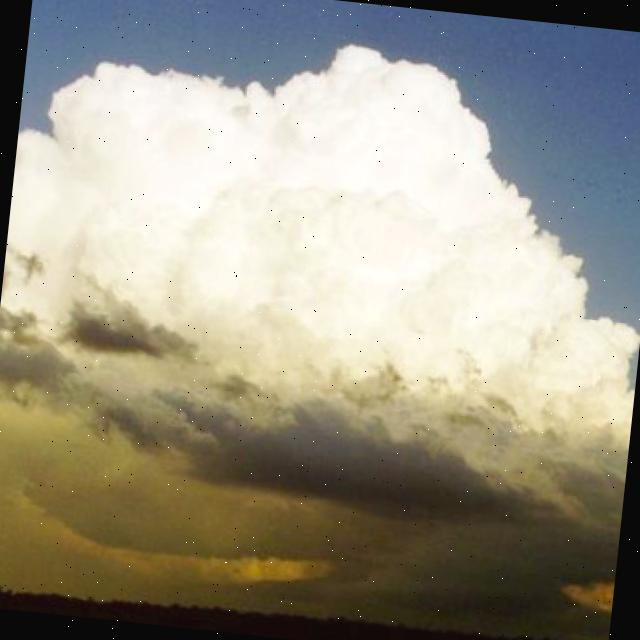Cb: (1, 1, 640, 459)
